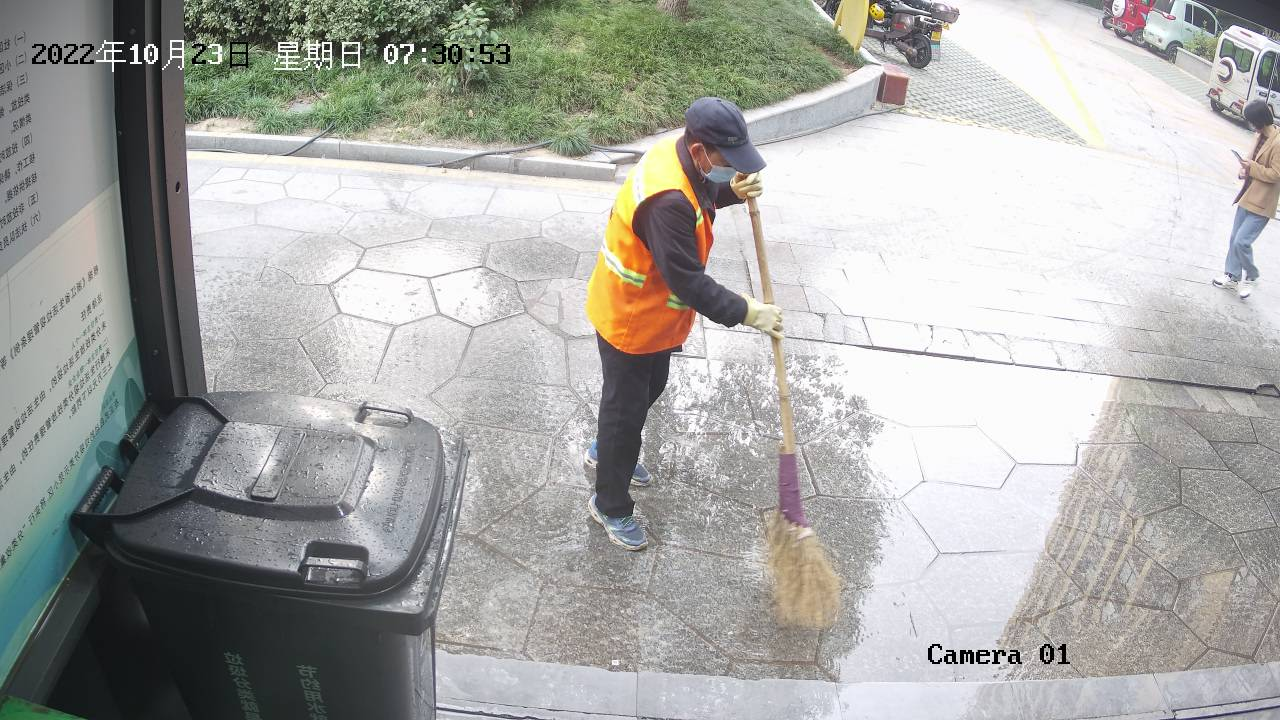person: (1207, 95, 1280, 303)
worker: (578, 90, 790, 557)
